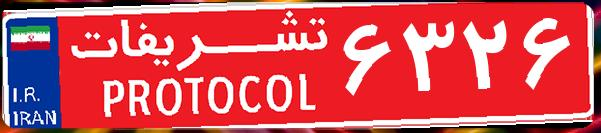2: (460, 20, 520, 115)
3: (400, 20, 460, 115)
6: (340, 20, 400, 115), (520, 20, 580, 115)
تشریفات: (60, 8, 340, 125)
